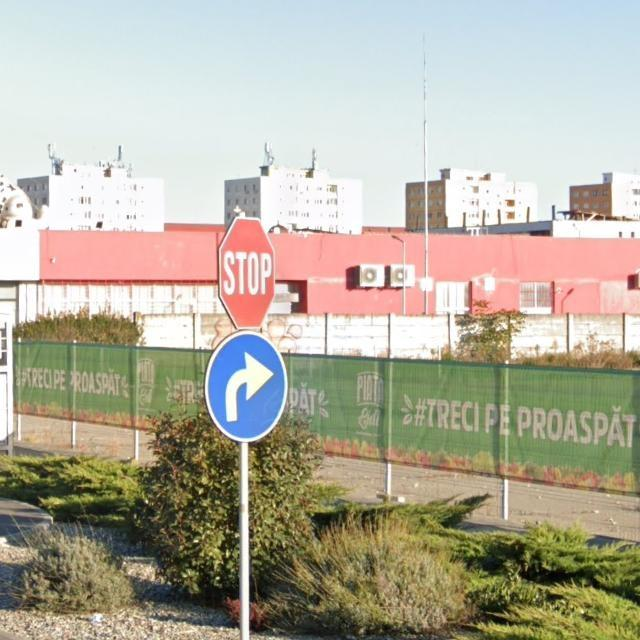prio_stop: (216, 216, 275, 329)
